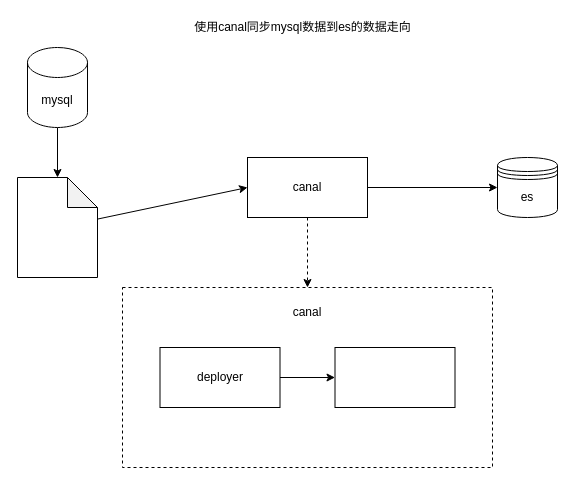
This 575x485 diagram has some shape labels left out. The shapes that lost their labels are listed below. From the top down, each one's centre as x and y in pixels, then its label:
At (57,227): "binlog".
At (394,377): "adapter".
